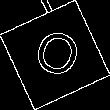O_S: (26, 24, 84, 86)
